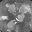people: (19, 3, 31, 14), (5, 3, 17, 14), (7, 20, 17, 30), (16, 14, 25, 22), (1, 15, 9, 21)
